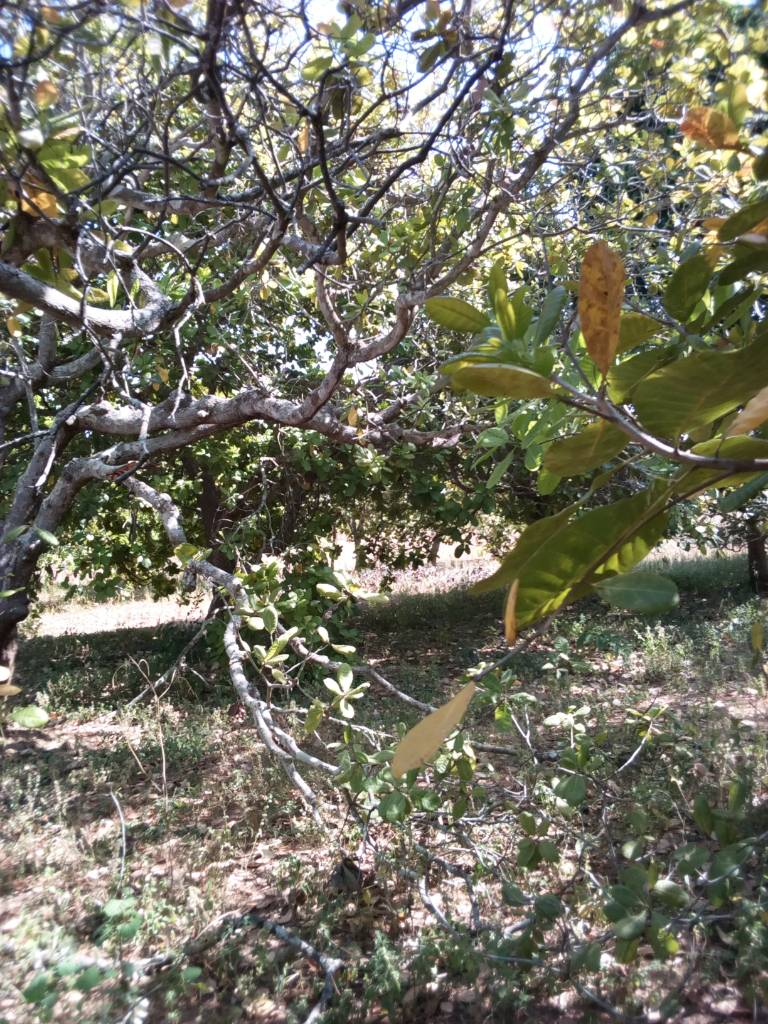Anthracnose: (572, 233, 622, 382)
